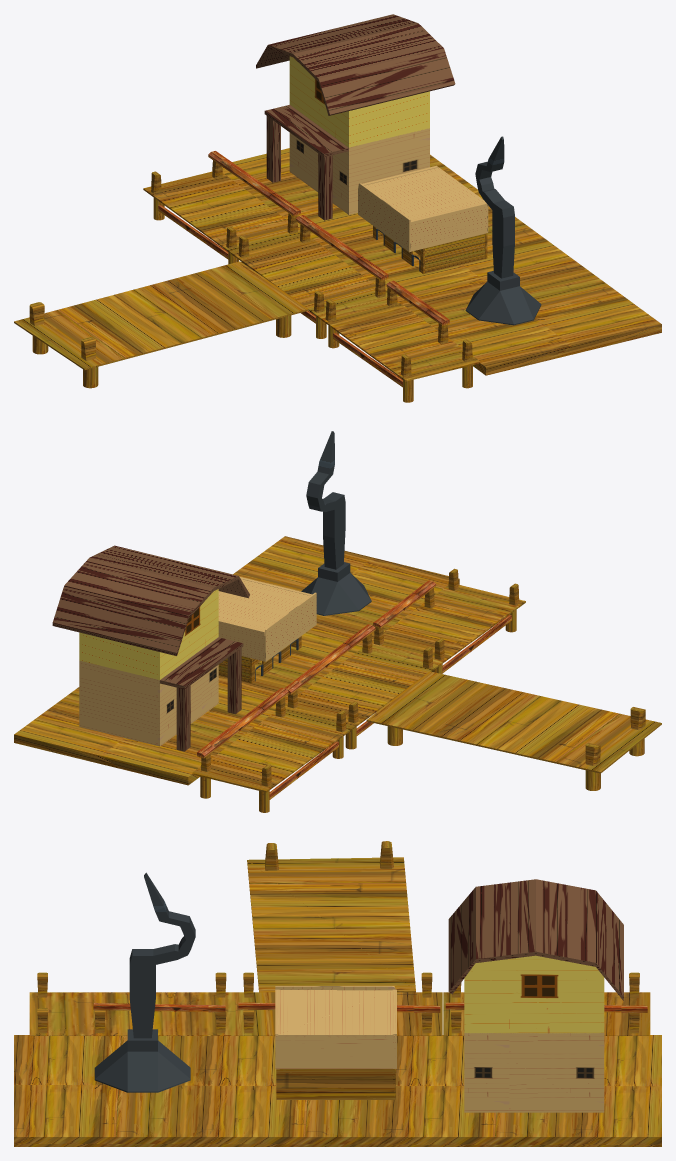
File: PortoCidade.FBX
3 views of the same model, one above another, from view 1: azimuth 30°, elevation 25°; view 2: azimuth 150°, elevation 25°; view 3: azimuth 270°, elevation 25° (orthographic). The views are drawn at different scales.
Parts seen in each view (by area): view 1: textura_deck_porto2 (×6), fachada (×4), casapraia3teste5 (×4), wee, casapraia3teste6, textura_deck_ilha (×5); view 2: textura_deck_porto2 (×5), fachada (×4), casapraia3teste5 (×4), wee, casapraia3teste6, textura_deck_ilha (×5); view 3: textura_deck_porto2 (×6), casapraia3teste5 (×4), fachada, casapraia3teste6, wee, textura_deck_ilha (×3).
Part boxes in pixels (box(x1,y1,x2,y2)): textura_deck_porto2 (×6): box(14, 148, 661, 381); fachada (×4): box(256, 14, 455, 220); casapraia3teste5 (×4): box(289, 108, 487, 252); wee: box(465, 136, 541, 325); casapraia3teste6: box(289, 56, 429, 147); textura_deck_ilha (×5): box(158, 151, 449, 387); textura_deck_porto2 (×5): box(14, 536, 661, 792); fachada (×4): box(52, 545, 249, 751); casapraia3teste5 (×4): box(79, 579, 316, 746); wee: box(301, 431, 371, 615); casapraia3teste6: box(79, 589, 218, 679); textura_deck_ilha (×5): box(197, 580, 511, 799); textura_deck_porto2 (×6): box(14, 857, 661, 1146); casapraia3teste5 (×4): box(275, 986, 604, 1112); fachada: box(448, 879, 623, 1000); casapraia3teste6: box(464, 955, 604, 1033); wee: box(94, 872, 195, 1092); textura_deck_ilha (×3): box(93, 1002, 647, 1012).
Bounding box in the file's own units: 85399 × 33583 × 83742.
